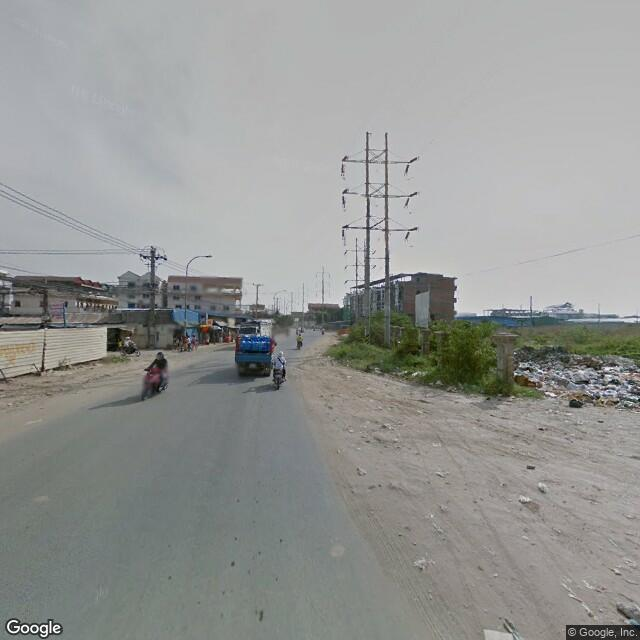litter: (519, 348, 640, 411), (503, 485, 539, 513), (408, 549, 441, 575)
